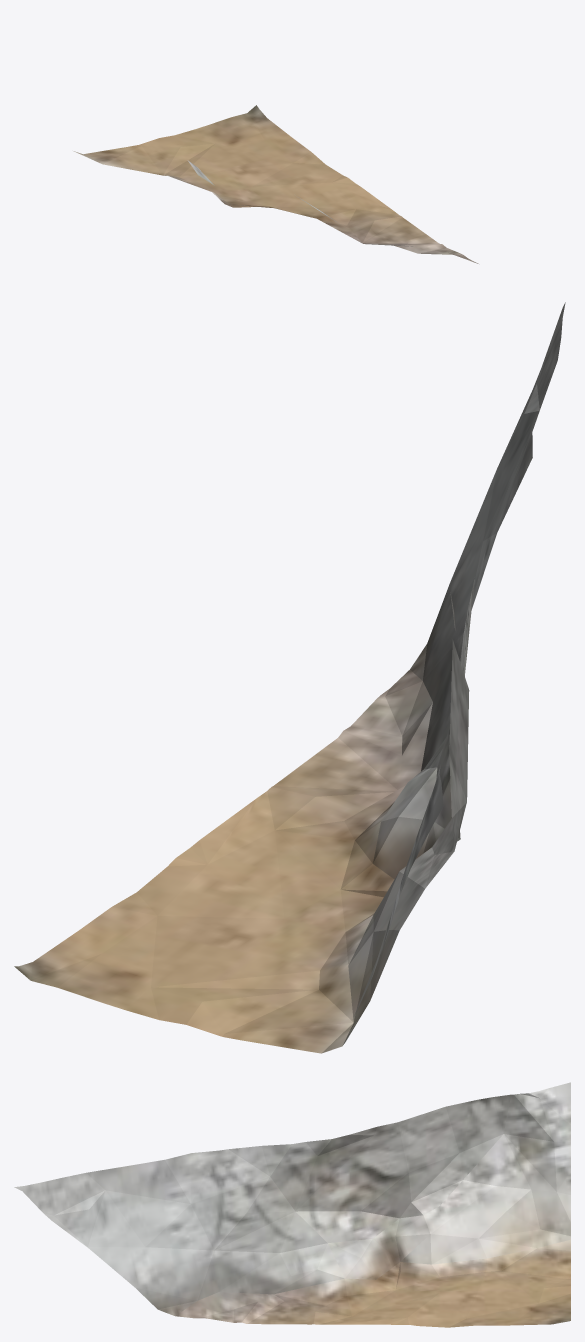
3 renders of one model, top to bottom at view 1: azimuth 30°, elevation 25°; view 2: azimuth 150°, elevation 25°; view 3: azimuth 270°, elevation 25°, orthographic. The views are drawn at different scales.
Bounding box in the file's own units: 1 × 0.6355 × 2.25.
Materials: 1 (1 with a texture image).
